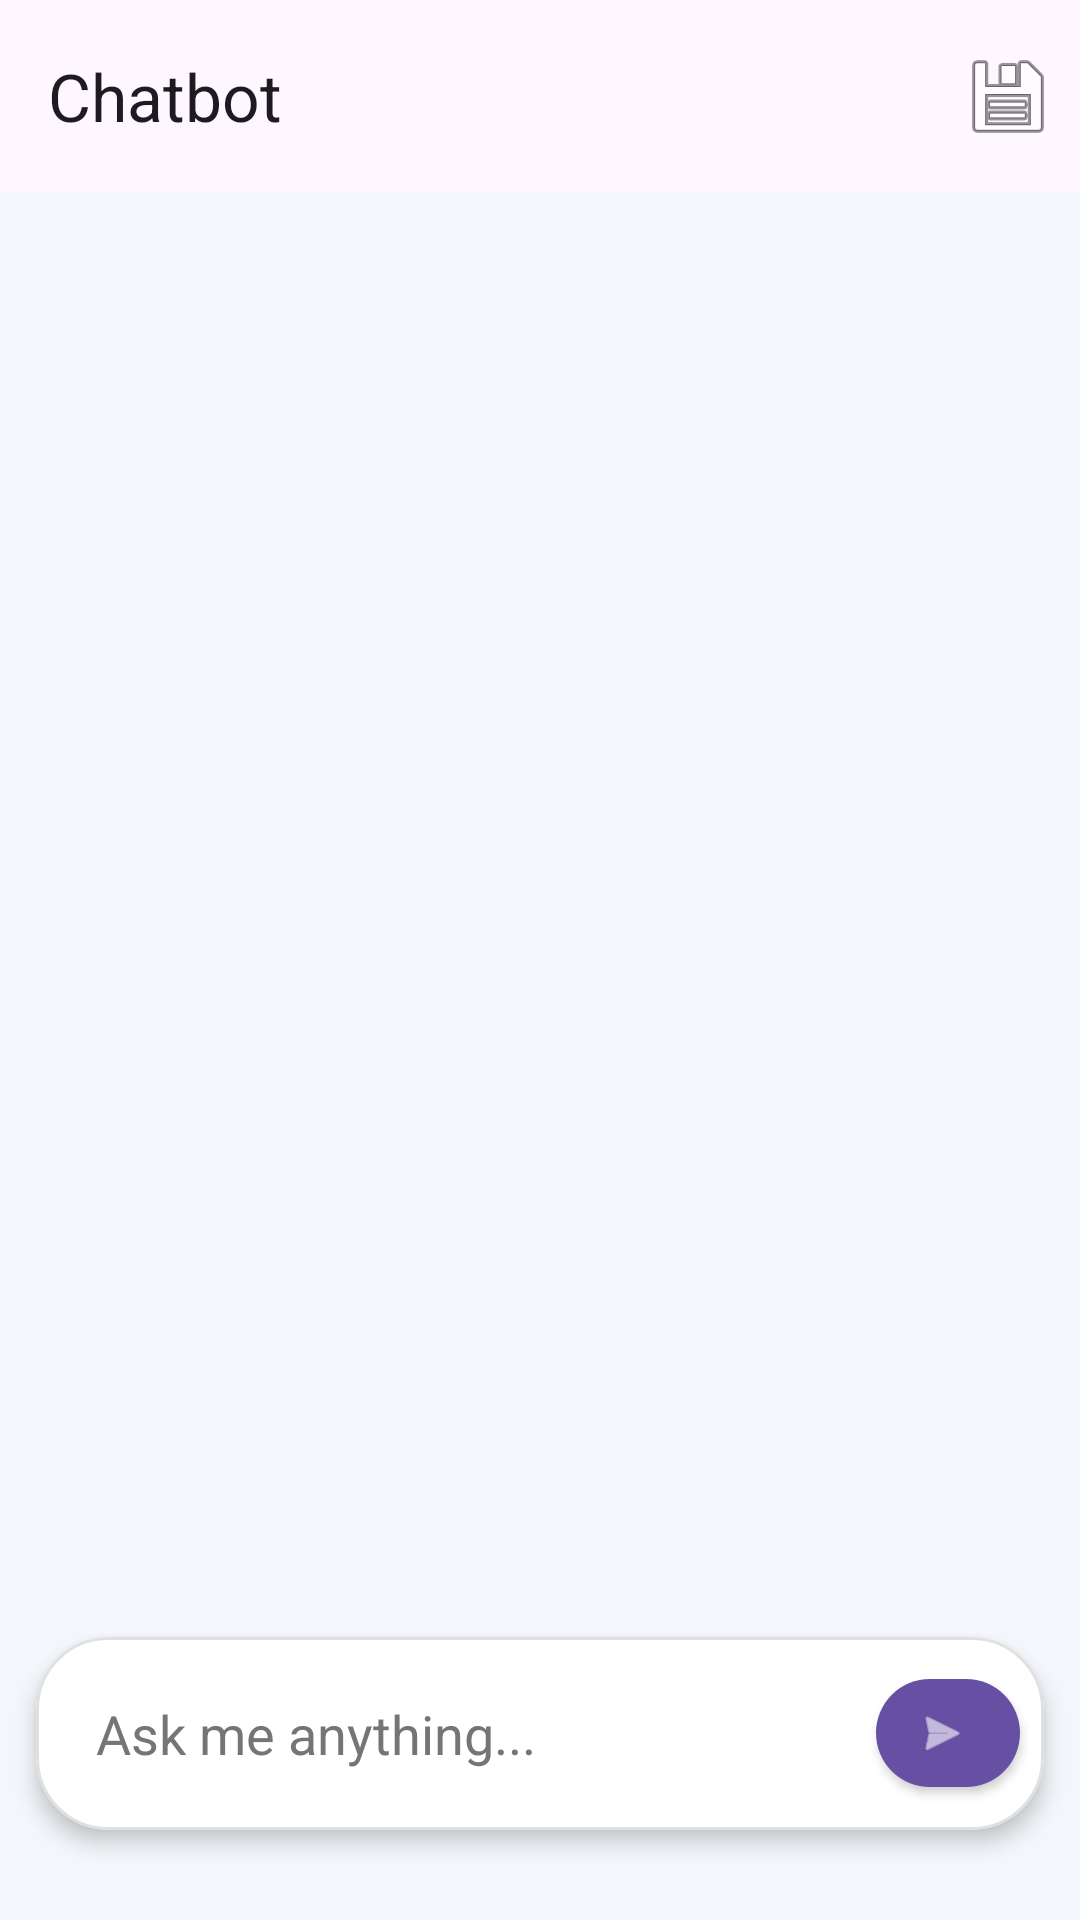

Screen size 1080x1920. Icon name, then its box in pixels as (x1, y1, x2, y2):
send: (876, 1679, 1020, 1793)
